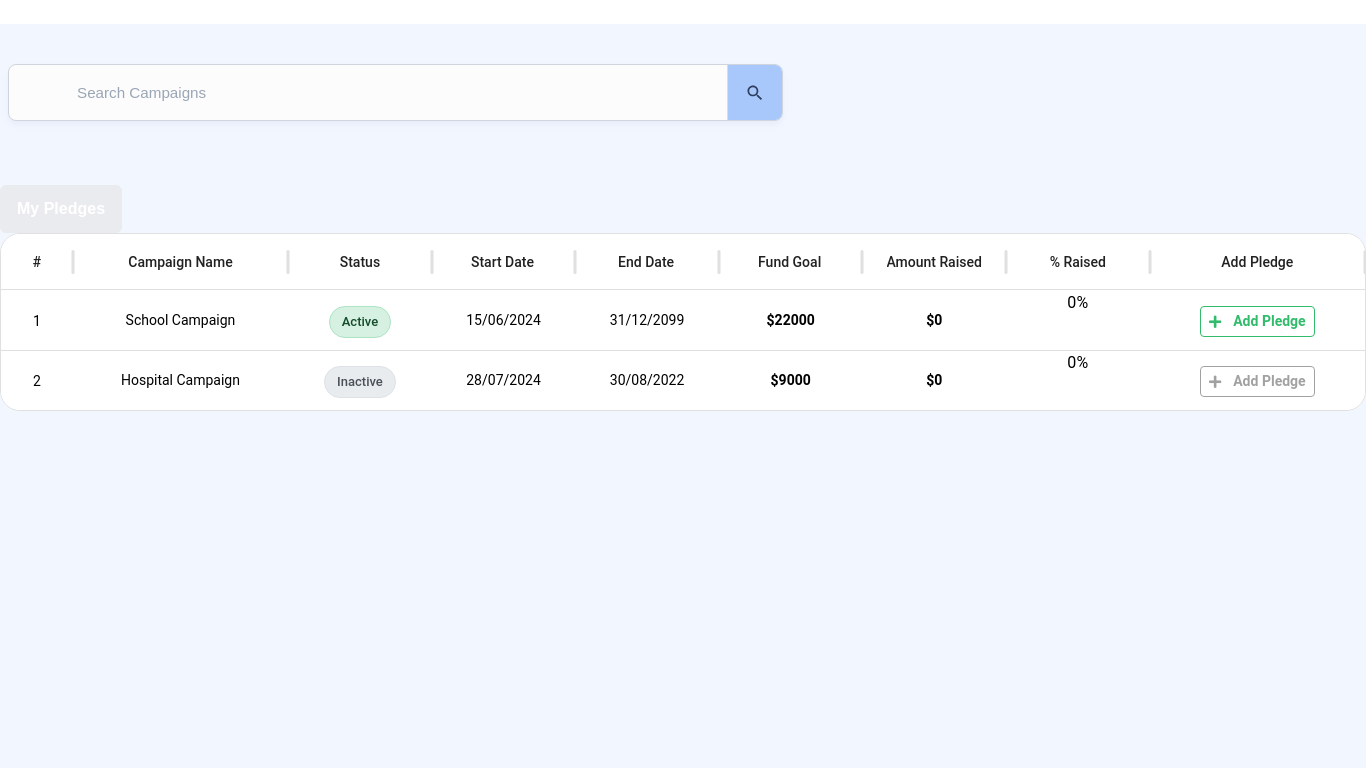
Test case: Testing User Campaigns Screen › Closes pledge modal when close button is clicked
Expected: the text "School Campaign" is shown, [126,312,235,328]
Click the button with test id "addPledgeBtn" in the row of "School Campaign": (1257,322) [1200,306,1315,337]
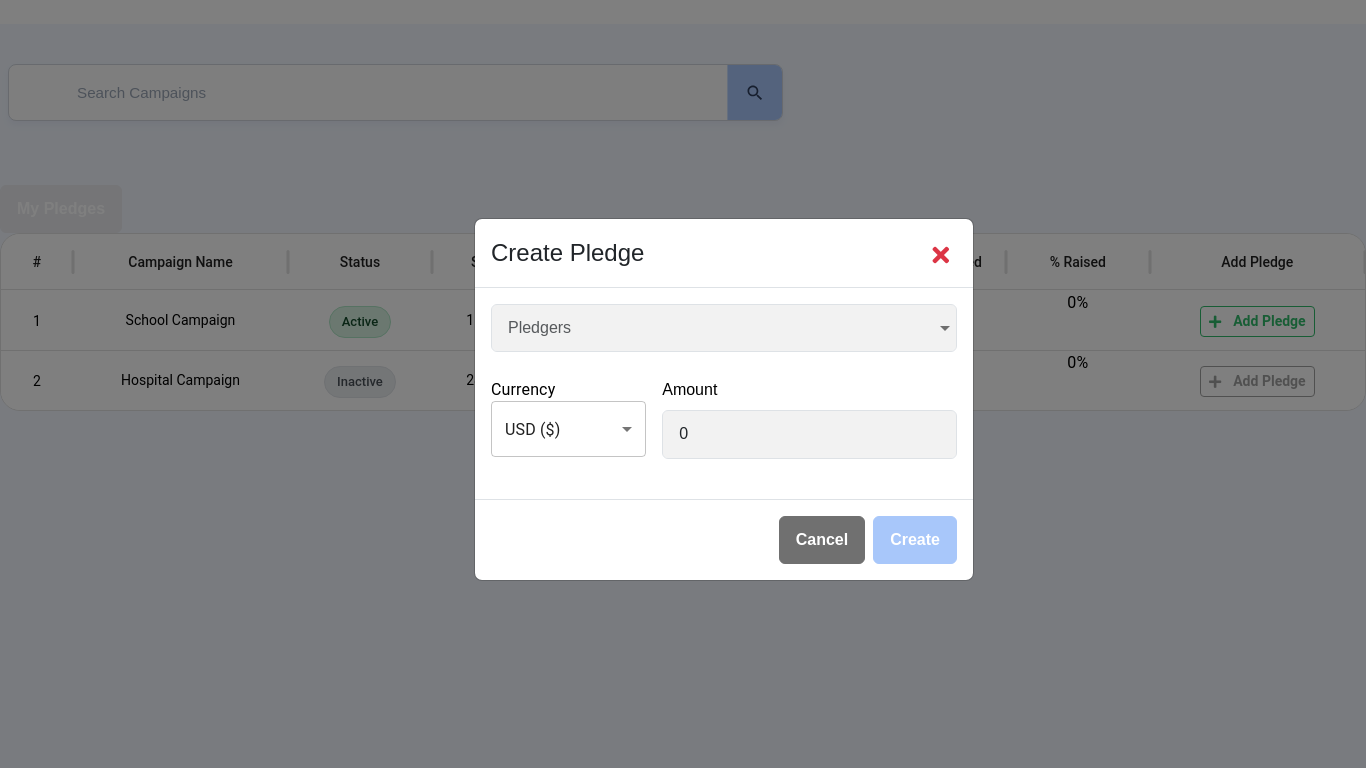
Result: the element with test id "pledgeForm" is shown at [491,304,957,483]
Click the button with test id "modalCloseBtn": (941,255) [924,235,957,275]
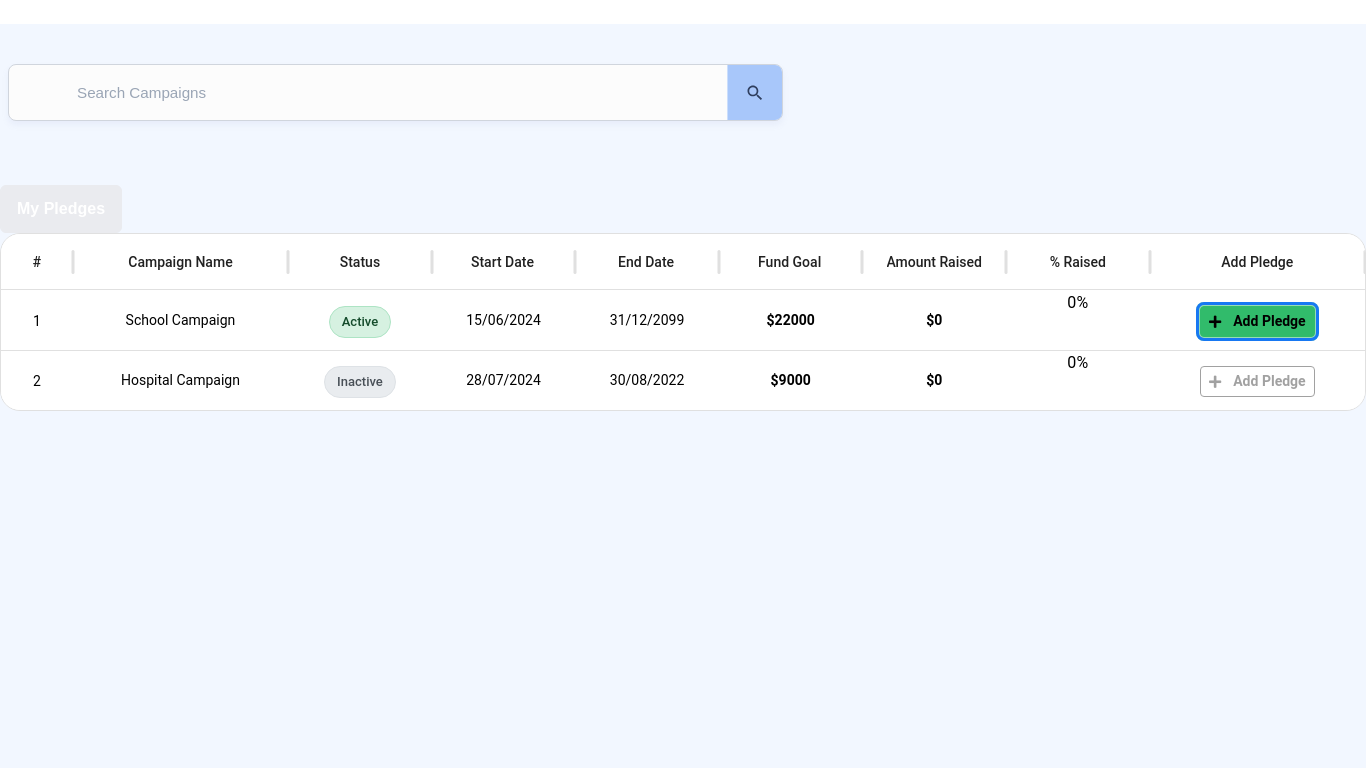
Result: the element with test id "pledgeForm" is gone
